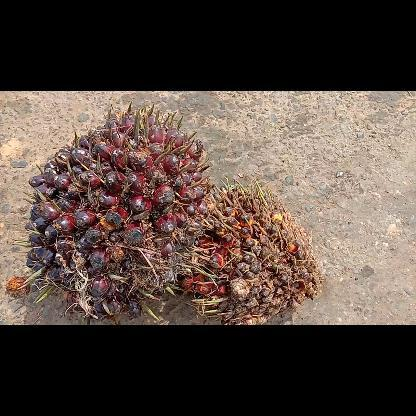Kurang masak: (13, 100, 209, 320)
TBS abnormal: (174, 178, 322, 324)
